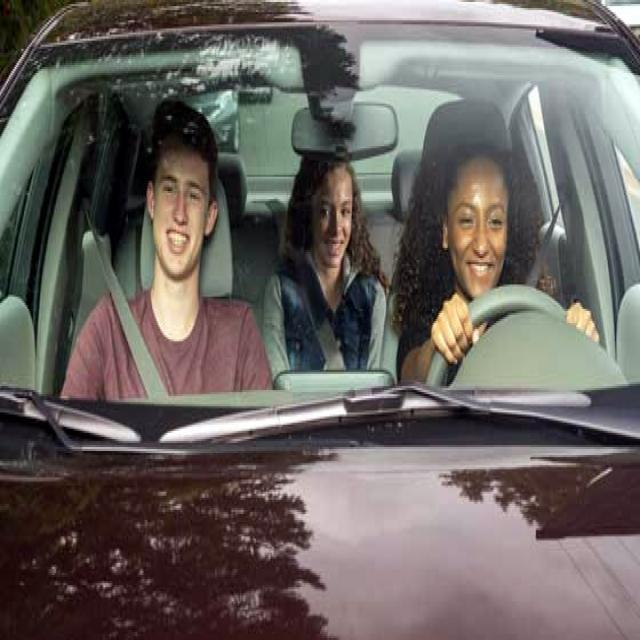seatbelt: (76, 193, 170, 400), (478, 192, 564, 350), (268, 191, 338, 362)
